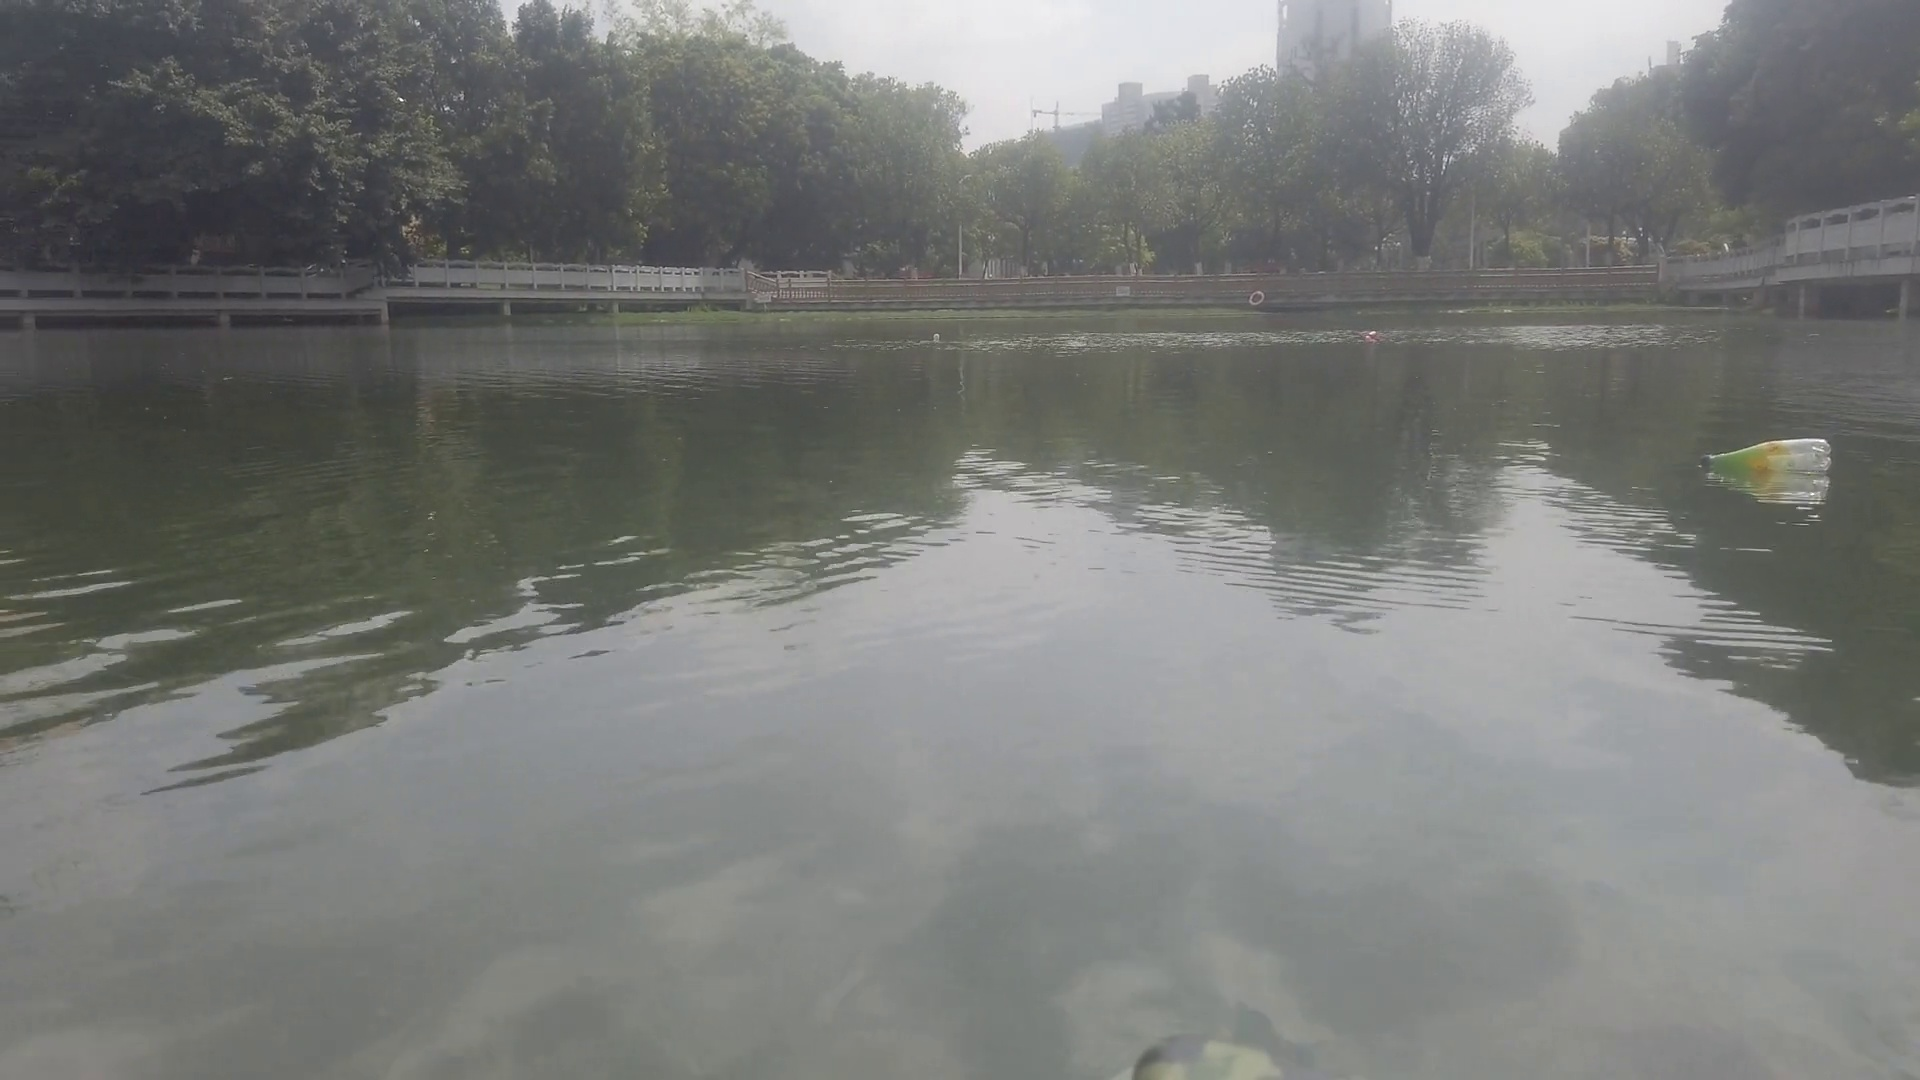bottle: (1696, 433, 1837, 473), (1364, 323, 1385, 340), (931, 328, 942, 344)
